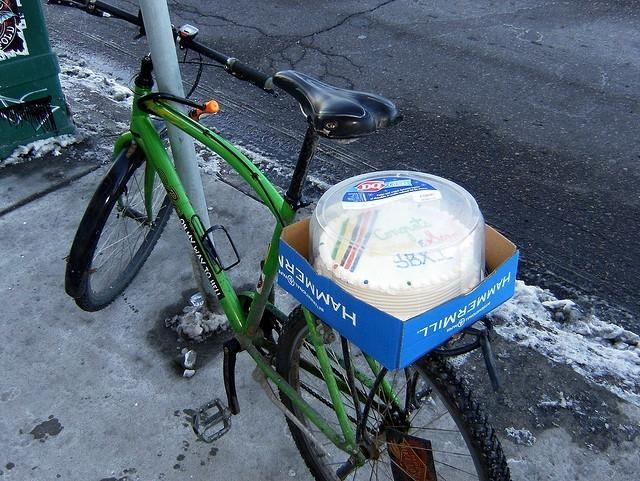bicycle: (57, 0, 515, 476)
